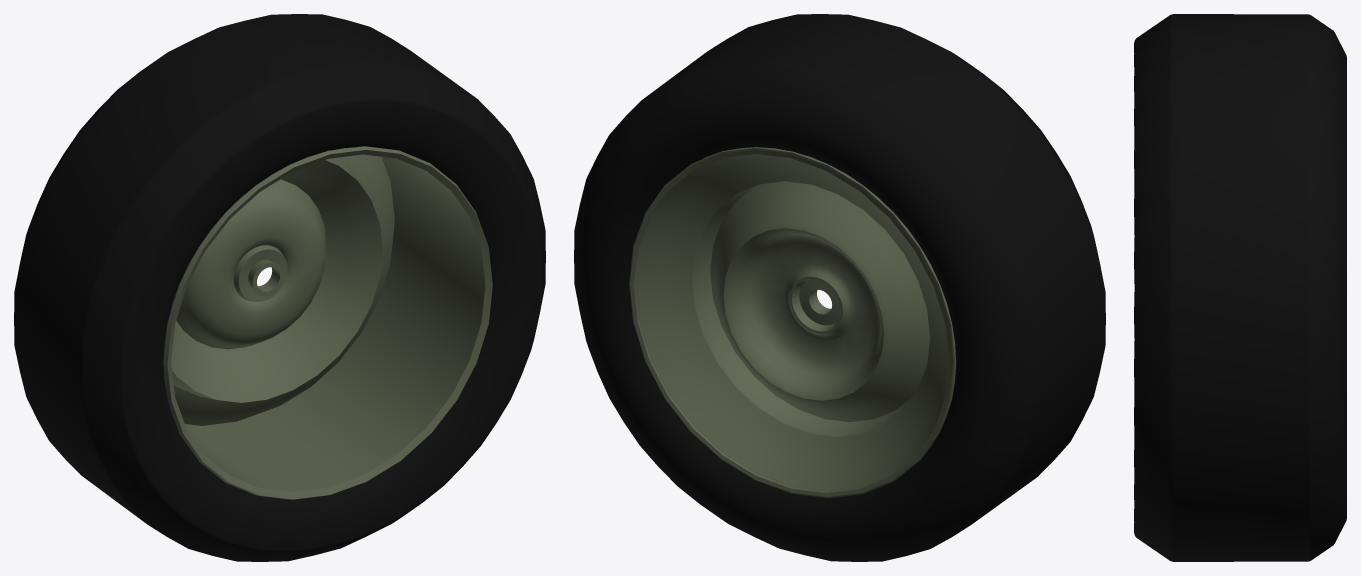
File: hmmwv_left_wheel.dae
3 renders of one model, left to right at view 1: azimuth 30°, elevation 25°; view 2: azimuth 150°, elevation 25°; view 3: azimuth 270°, elevation 25°, orthographic. The views are drawn at different scales.
Parts seen in each view (by area): view 1: Hummer_003; view 2: Hummer_003; view 3: Hummer_003.
Part boxes in pixels (box(x1,y1,x2,y2)): Hummer_003: box(14, 14, 545, 561); Hummer_003: box(574, 14, 1105, 561); Hummer_003: box(1134, 14, 1346, 561).
Bounding box in the file's own units: 0.9804 × 0.3809 × 0.9804.
